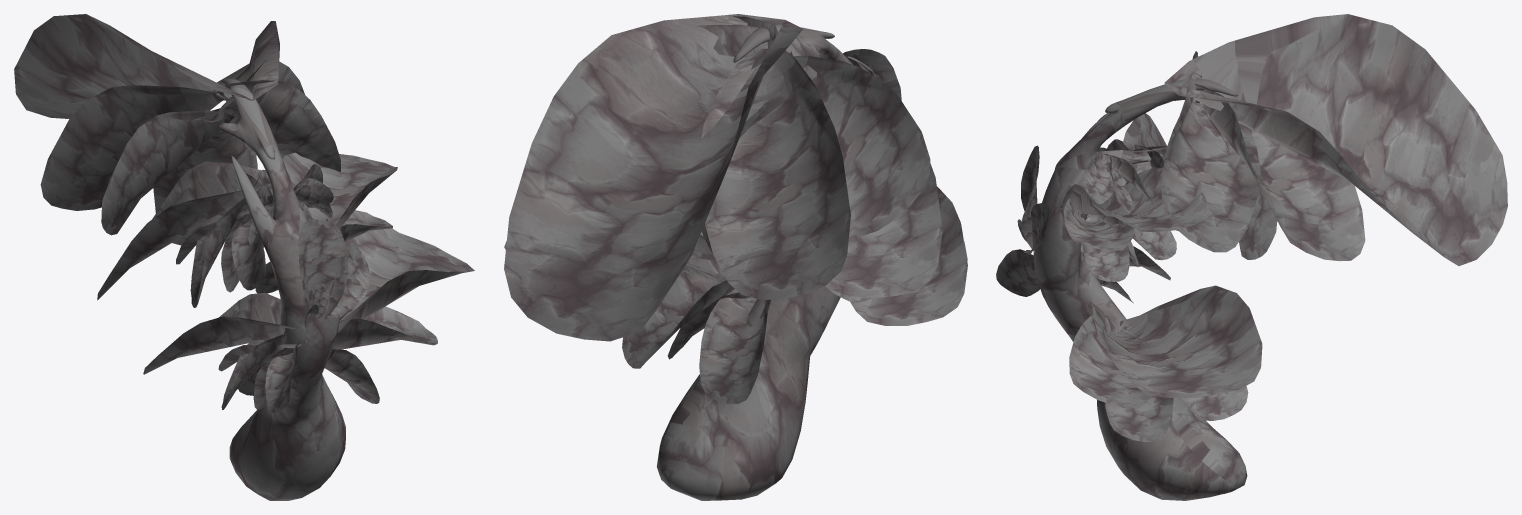
File: Plant.fbx
3 views of the same model, side by side, from view 1: azimuth 30°, elevation 25°; view 2: azimuth 150°, elevation 25°; view 3: azimuth 270°, elevation 25° (orthographic). The views are drawn at different scales.
Visible parts, largest first — view 1: Cube.048; view 2: Cube.048; view 3: Cube.048.
Part boxes in pixels (box(x1,y1,x2,y2)): Cube.048: box(14, 14, 474, 500); Cube.048: box(504, 14, 967, 500); Cube.048: box(996, 14, 1507, 500).
Size of the model in its own units: 713 by 840 by 902.
